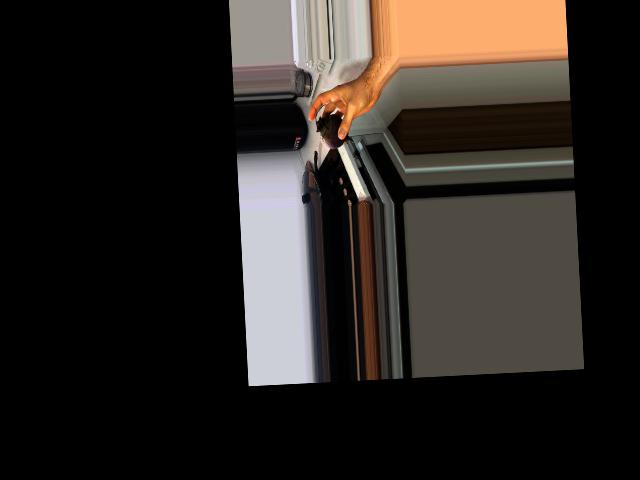beet: (315, 103, 354, 149)
